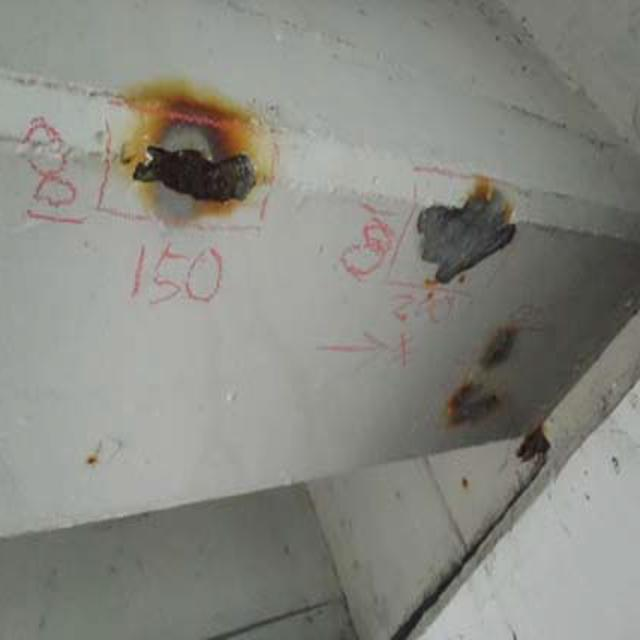spalling: (119, 106, 277, 226), (407, 166, 522, 283), (443, 314, 530, 430)
